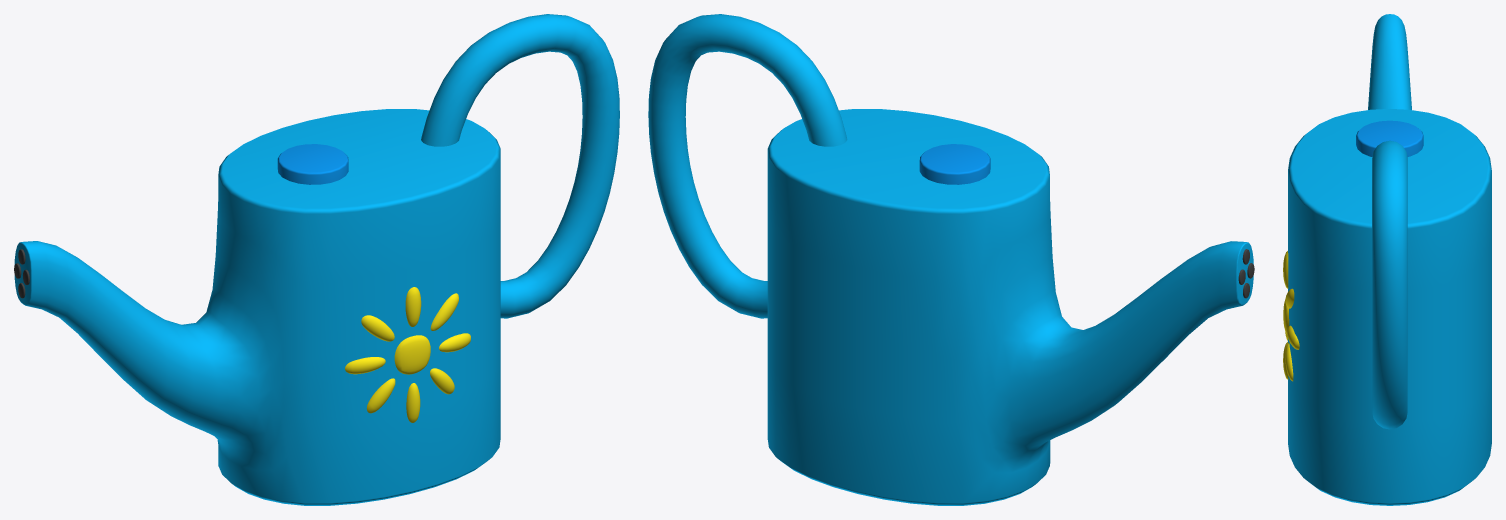
The model's file is Farm_15_Watering_can_1.glb.
3 renders of one model, left to right at view 1: azimuth 30°, elevation 25°; view 2: azimuth 150°, elevation 25°; view 3: azimuth 270°, elevation 25°, orthographic. The views are drawn at different scales.
Parts seen in each view (by area): view 1: Farm_15_Watering_can_1; view 2: Farm_15_Watering_can_1; view 3: Farm_15_Watering_can_1.
Part boxes in pixels (x1,y1,x2,y2): Farm_15_Watering_can_1: (14,14,619,505); Farm_15_Watering_can_1: (648,14,1254,505); Farm_15_Watering_can_1: (1283,14,1491,505).
Size of the model in its own units: 1.21 by 0.7713 by 0.3884.
1 material, 1 textured.
